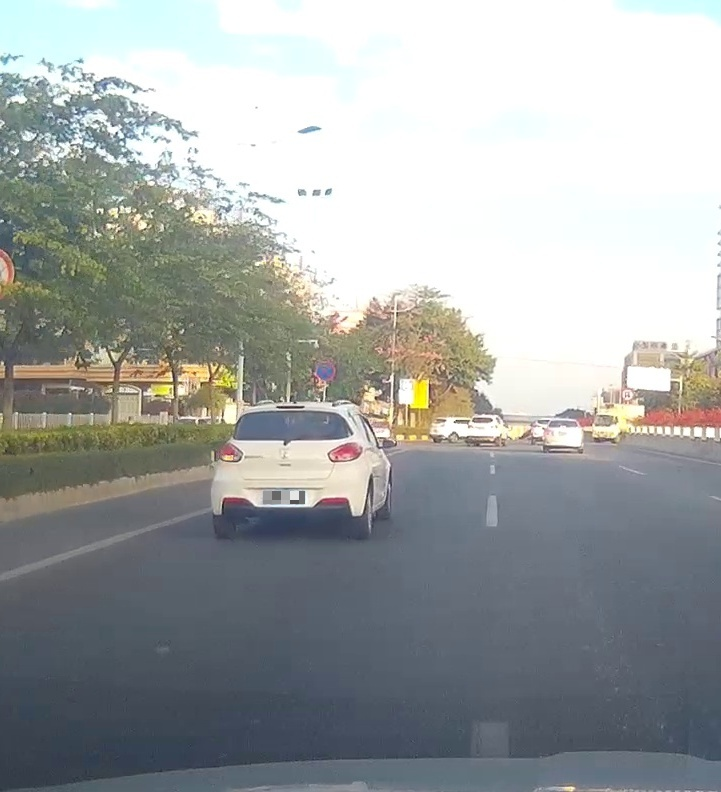L_light: (218, 441, 244, 462)
R_light: (328, 442, 363, 463)
T_light: (276, 405, 305, 409)
day-left: (210, 402, 367, 538)
plate_1: (263, 491, 305, 504)
